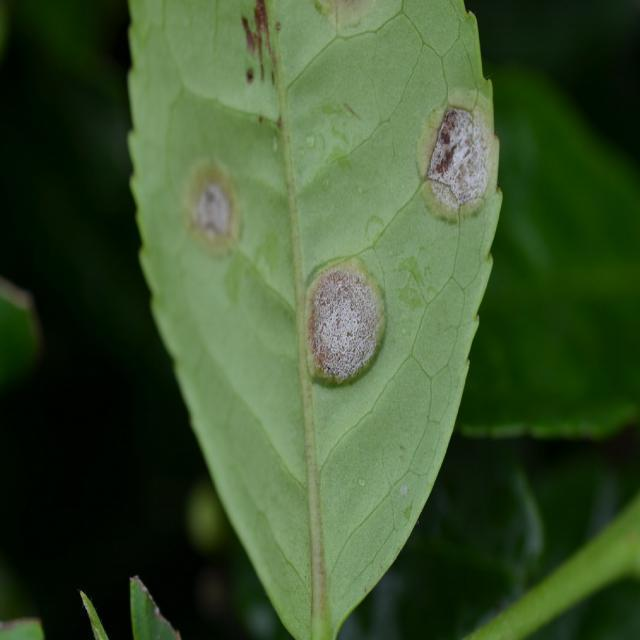Tea cake: (294, 258, 384, 377), (424, 84, 499, 203), (182, 148, 244, 241)
